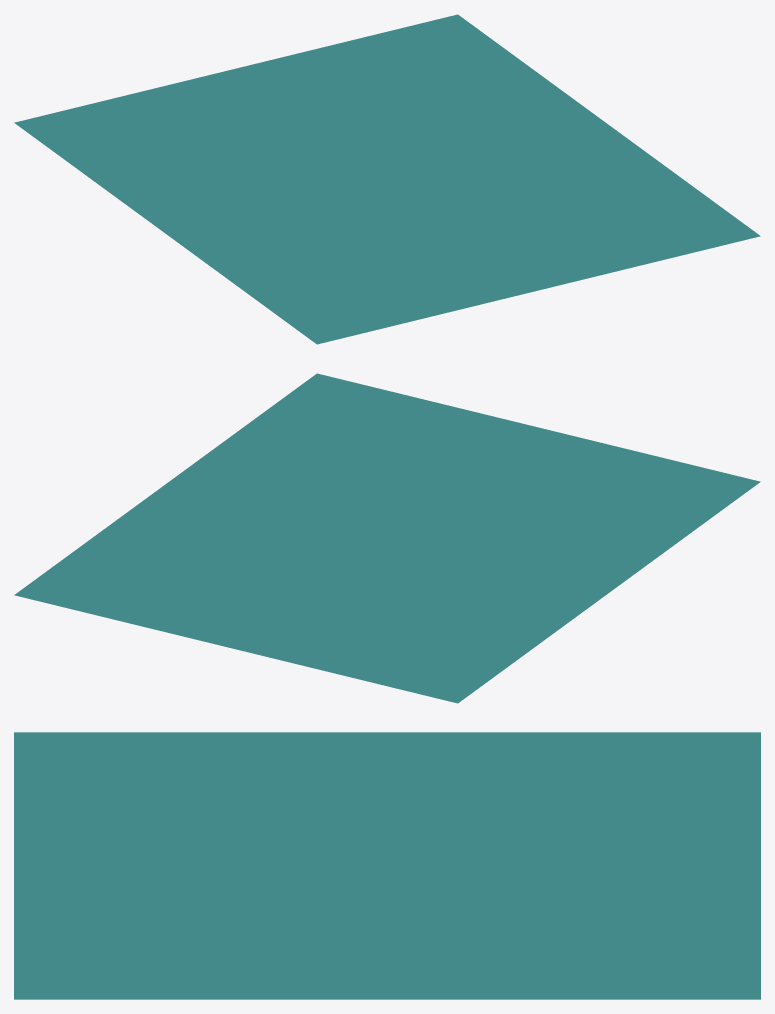
The model's file is Wather.fbx.
The picture shows the model from 3 angles, top to bottom: view 1: azimuth 30°, elevation 25°; view 2: azimuth 150°, elevation 25°; view 3: azimuth 270°, elevation 25°; orthographic projection. The views are drawn at different scales.
Visible parts, largest first — view 1: pPlane1; view 2: pPlane1; view 3: pPlane1.
Boxes of the visible parts, x1,y1,x2,y2 form: pPlane1: [14, 14, 760, 344]; pPlane1: [14, 373, 760, 703]; pPlane1: [14, 732, 760, 999].
Size of the model in its own units: 150 by 7.11e-14 by 177.
